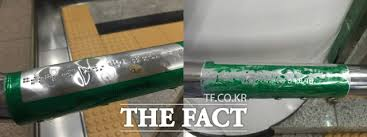guide_blocks: (62, 6, 134, 134), (88, 23, 184, 48)
